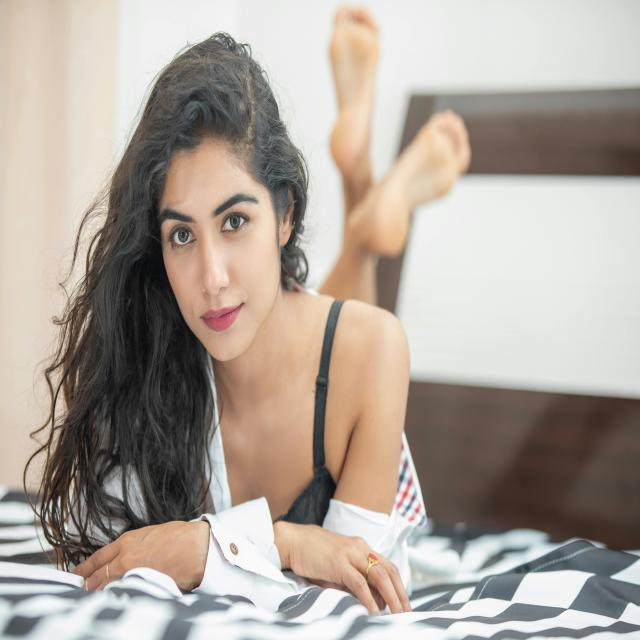lie: (67, 39, 511, 627)
